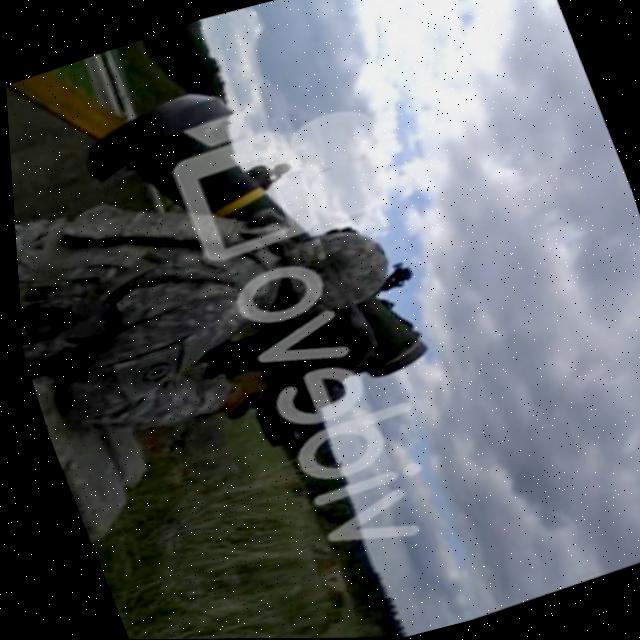rocket: (70, 73, 314, 298)
